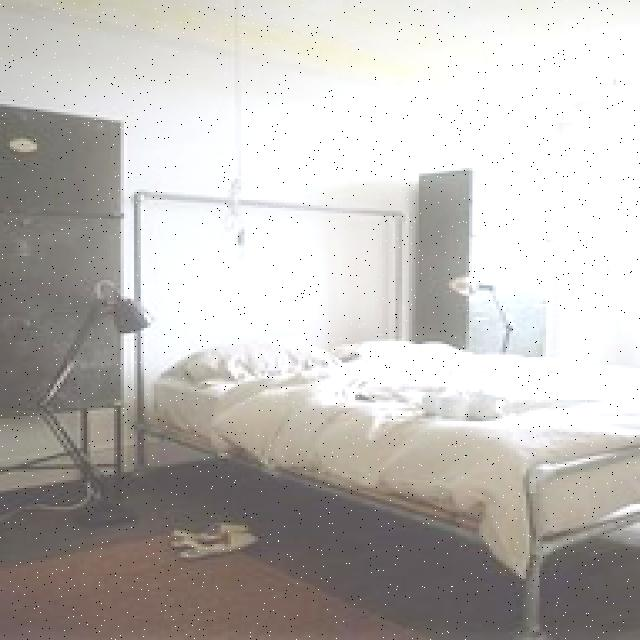bed: (134, 312, 640, 552)
